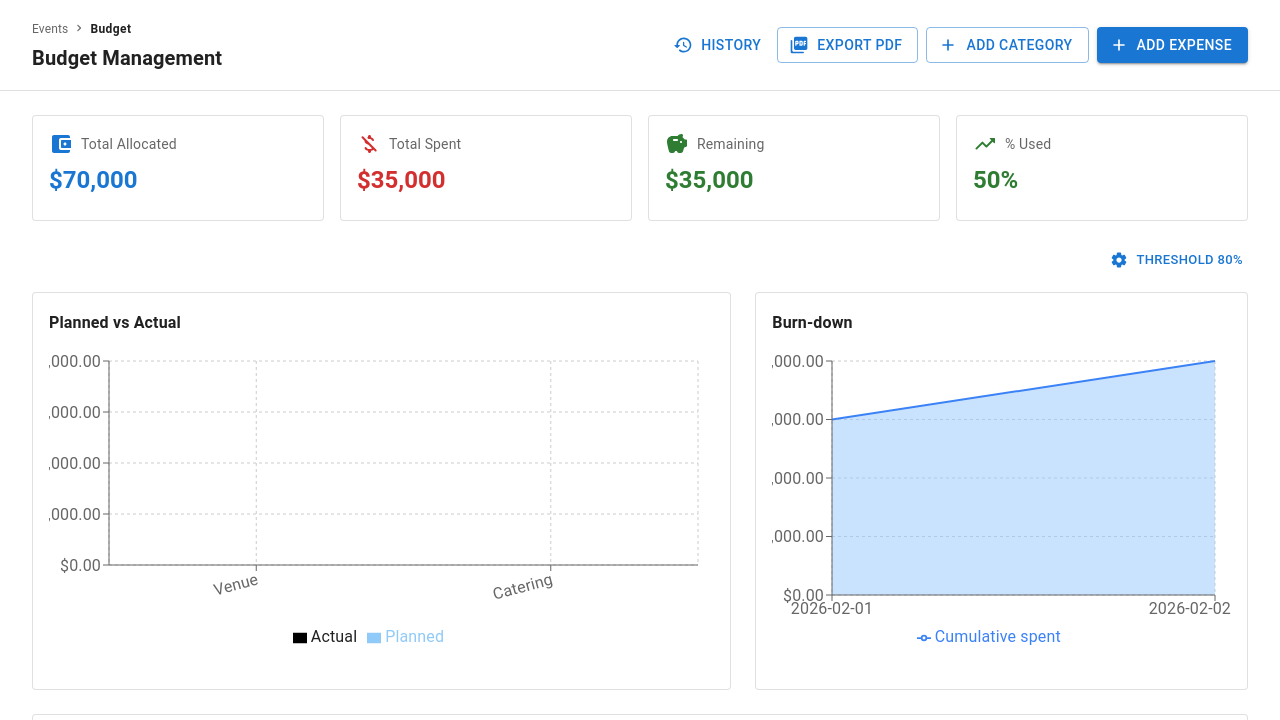
Scenario: BudgetPage › opens add expense dialog when Add Expense is clicked
Expected: the heading "Budget Management" is shown, x1=32 y1=42 x2=222 y2=74
Step 1. Click the button "Add Expense" → (1172, 45), box x1=1096 y1=27 x2=1248 y2=63
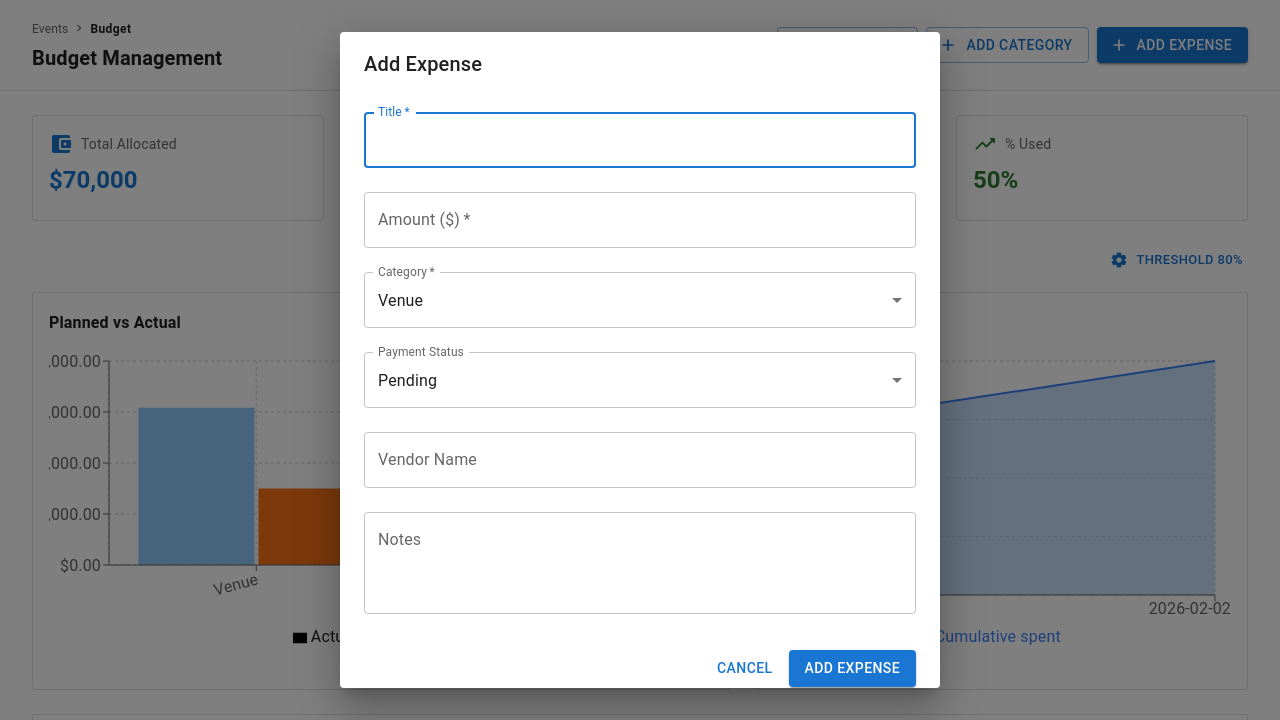
Expected: the dialog "Add Expense" is shown, x1=340 y1=32 x2=940 y2=688
Expected: the field labelled "Title *" is shown, x1=364 y1=112 x2=916 y2=168
